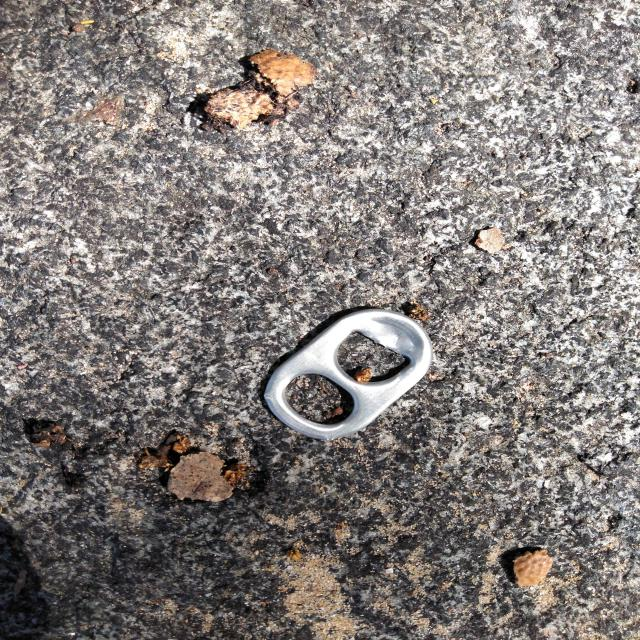litter: (267, 308, 433, 438)
